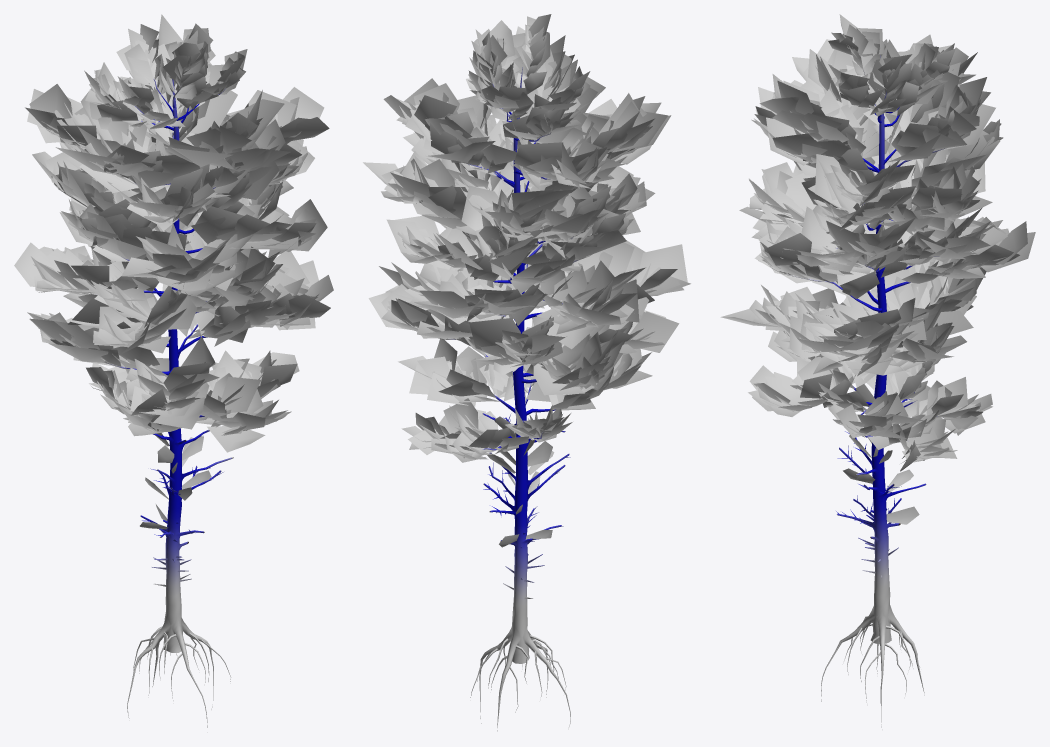
The model's file is Pine_02_LOD1.fbx.
The picture shows the model from 3 angles, left to right: view 1: azimuth 30°, elevation 25°; view 2: azimuth 150°, elevation 25°; view 3: azimuth 270°, elevation 25°; orthographic projection.
Parts seen in each view (by area): view 1: polySurface2940; view 2: polySurface2940; view 3: polySurface2940.
Boxes of the visible parts, x1=… form: polySurface2940: x1=14, y1=14, x2=333, y2=727; polySurface2940: x1=363, y1=14, x2=690, y2=731; polySurface2940: x1=720, y1=14, x2=1035, y2=727.
Bounding box in the file's own units: 1163 × 2859 × 1175.
